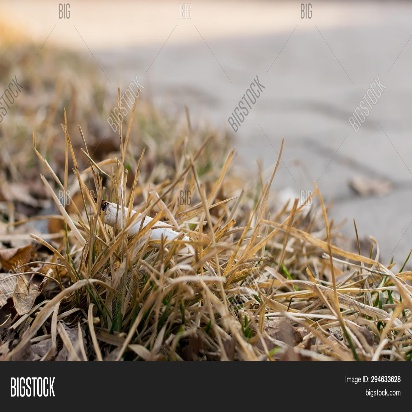cigarette: (96, 191, 197, 261)
